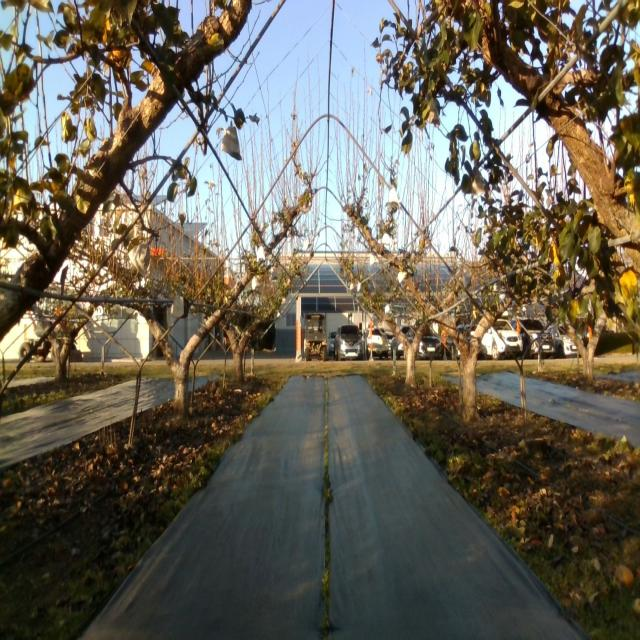pearbags: (220, 121, 243, 160), (128, 240, 151, 278), (468, 168, 486, 194), (462, 267, 472, 288)
